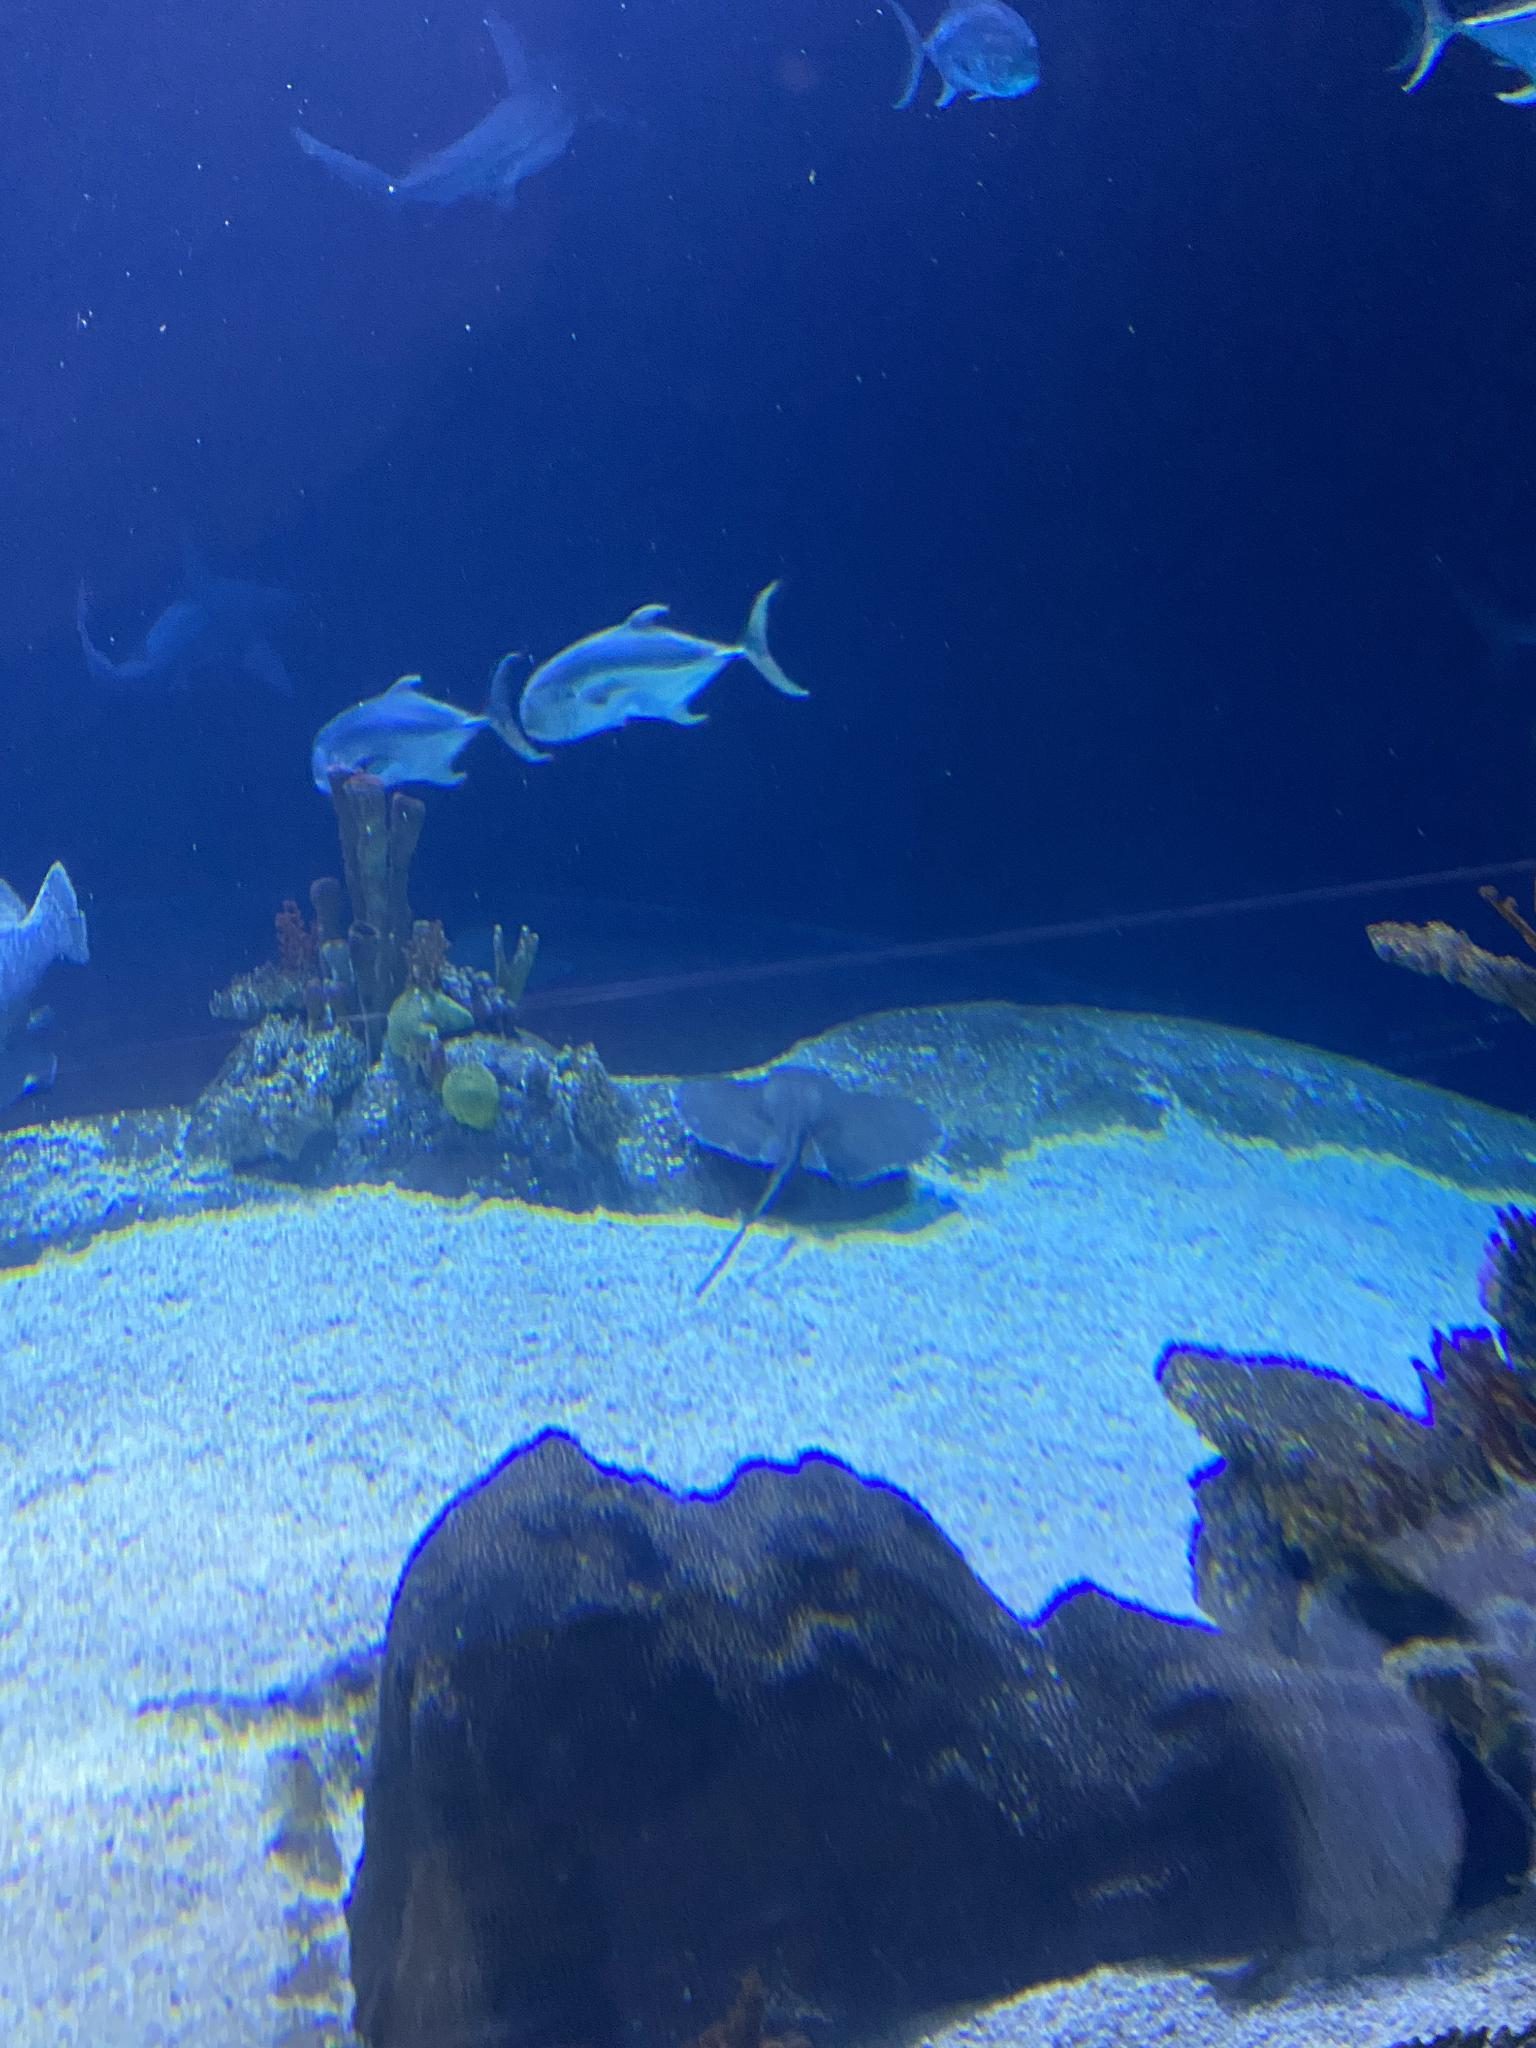fish: (515, 572, 812, 748), (305, 655, 557, 803), (884, 3, 1047, 118), (2, 863, 86, 1072), (1405, 0, 1534, 113)
shark: (302, 10, 628, 218), (77, 529, 332, 698)
stingray: (670, 1059, 944, 1190)
